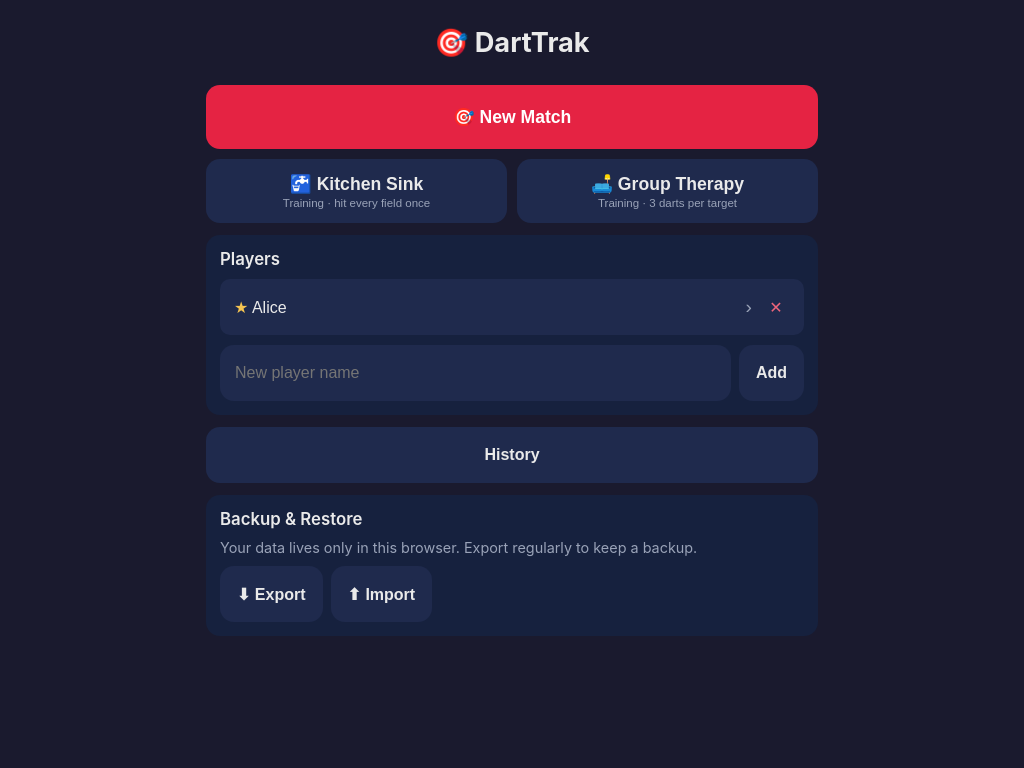
screens render without crashing › Home clears the main player when they are deleted
Expected: the text "Alice" is shown, [252, 298, 287, 316]
Click the button named "Delete Alice" at coordinates (776, 307), box [756, 287, 796, 327]
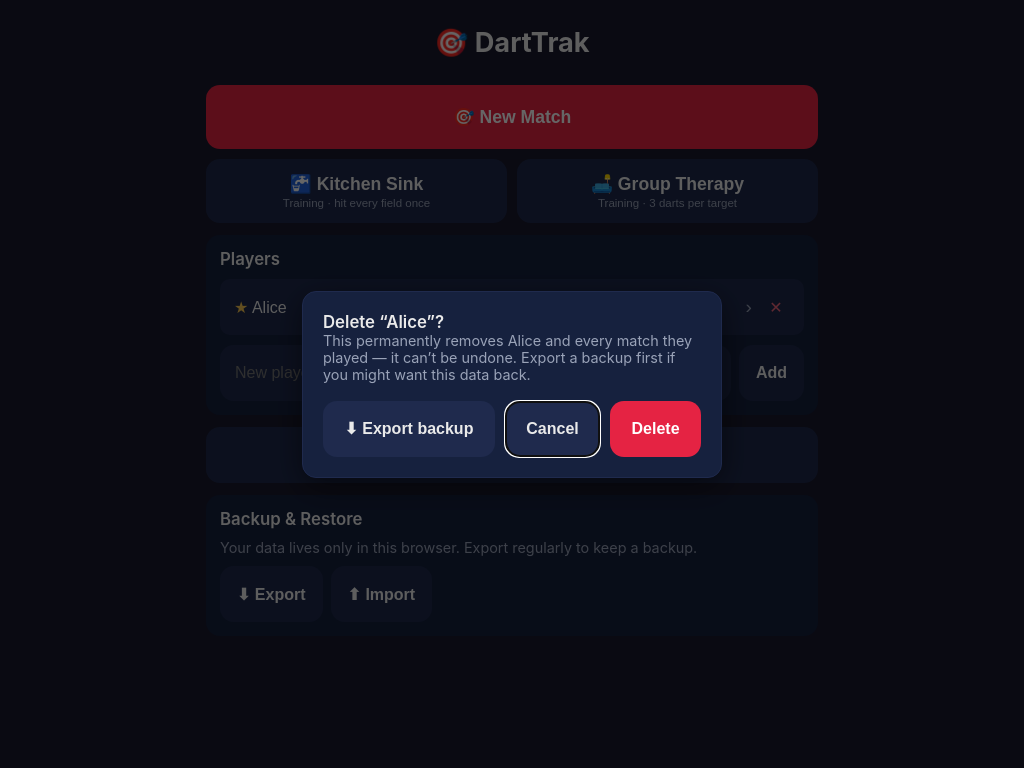
Click the button "Delete" at coordinates (656, 428), box [610, 400, 701, 456]
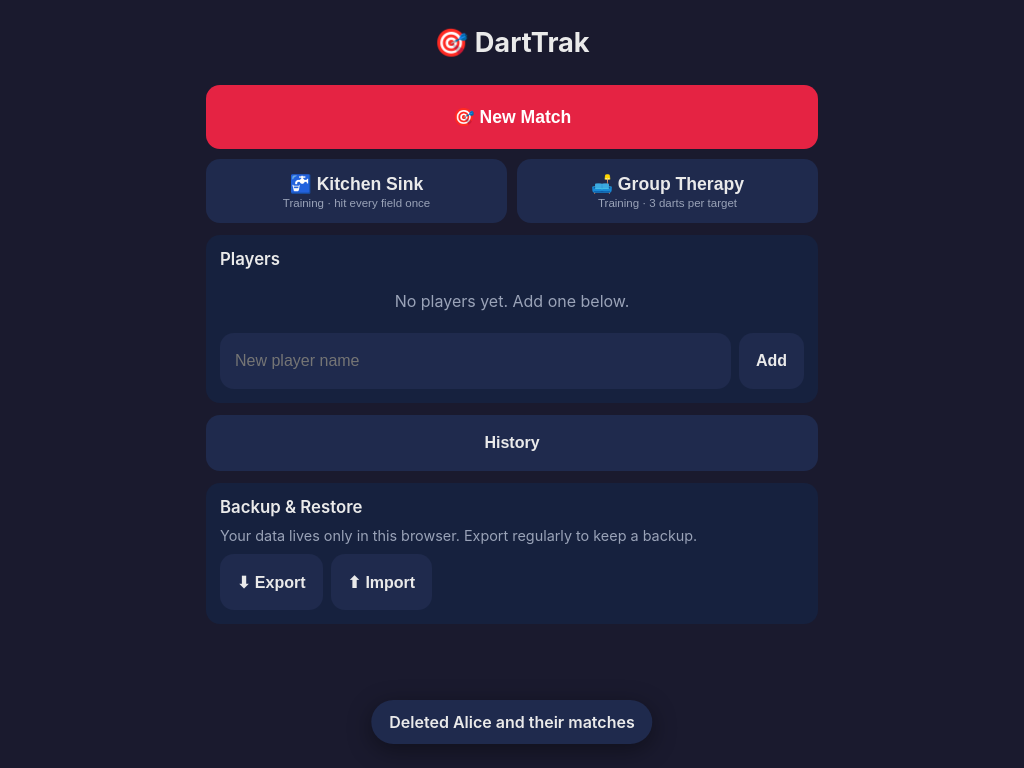
Now the list item "No players yet. Add one below." is shown, box [395, 291, 629, 311]
